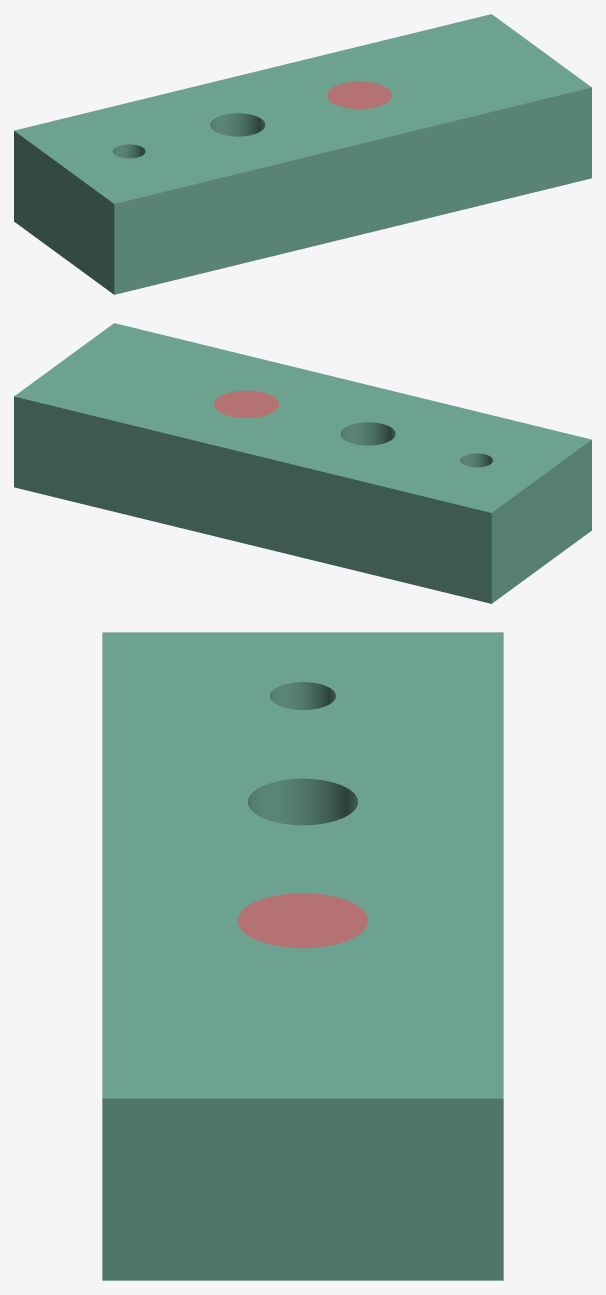
The model's file is step_05.glb.
3 renders of one model, top to bottom at view 1: azimuth 30°, elevation 25°; view 2: azimuth 150°, elevation 25°; view 3: azimuth 270°, elevation 25°, orthographic. The views are drawn at different scales.
Visible parts, largest first — view 1: part__hole features block, removed__hole features block; view 2: part__hole features block, removed__hole features block; view 3: part__hole features block, removed__hole features block.
Part boxes in pixels (x1,y1,x2,y2): part__hole features block: (14, 14, 591, 294); removed__hole features block: (327, 81, 391, 108); part__hole features block: (14, 323, 591, 603); removed__hole features block: (214, 390, 278, 417); part__hole features block: (102, 632, 503, 1280); removed__hole features block: (238, 893, 367, 948).
Size of the model in its own units: 110 by 20 by 40.
